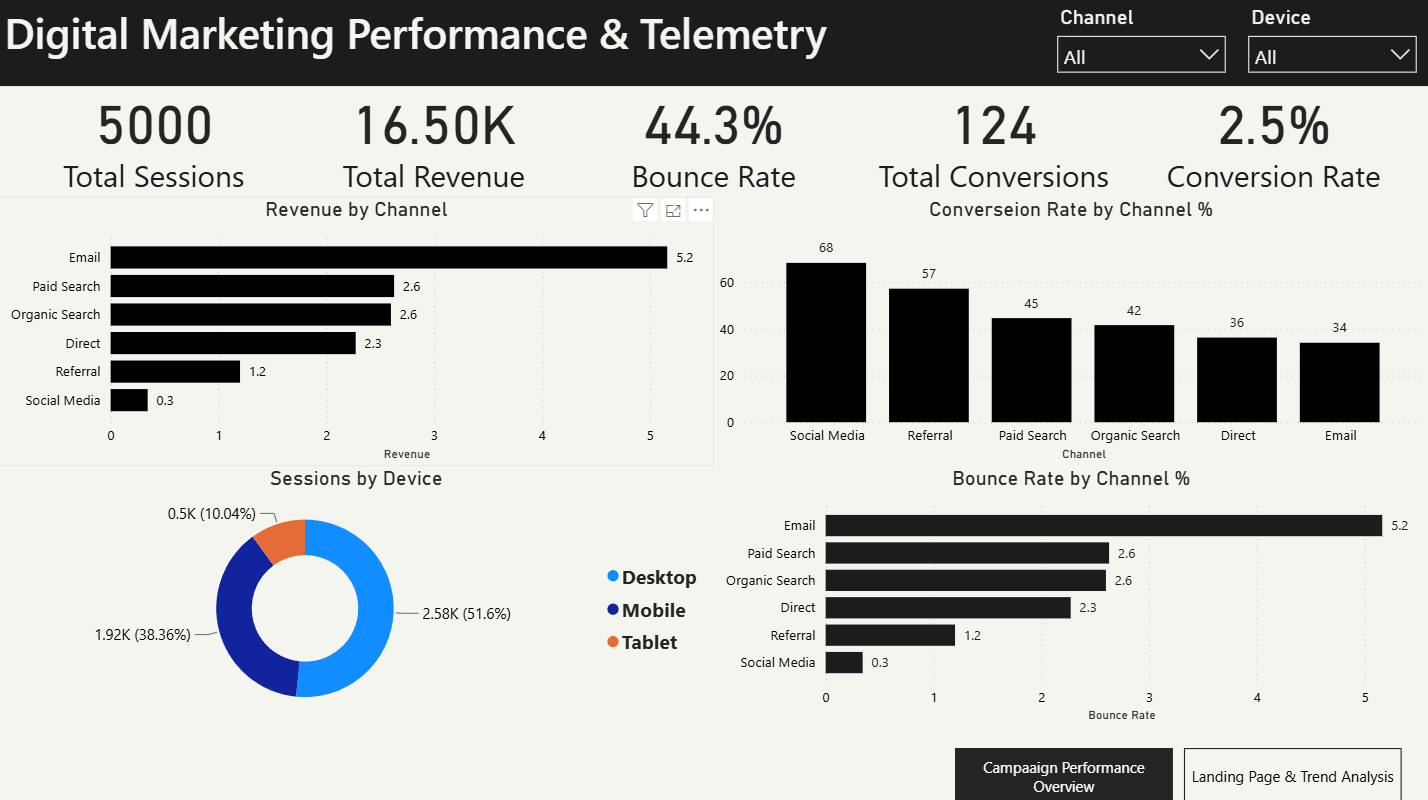

The dashboard page shown, as its layout file describes it:
{"tool":"powerbi","page":{"name":"Campaaign Performance Overview","canvas":[1280,720],"ordinal":0},"visuals":[{"type":"textbox","box":[0,0,1280,78.4],"z":0},{"type":"PBI_CV_7B952816_A48F_49B4_9E13_15E3BB2C0337","fields":{"Values":["web_monthly_trend.Total Sessions"]},"box":[0,78,277.4,99.4],"z":0,"group":"g1"},{"type":"group","id":"g1","title":"Group 1","box":[0,78,1280,99.5],"z":1000},{"type":"PBI_CV_7B952816_A48F_49B4_9E13_15E3BB2C0337","fields":{"Values":["web_monthly_trend.Total Revenue"]},"box":[250.6,78,277.4,99.4],"z":1000,"group":"g1"},{"type":"PBI_CV_7B952816_A48F_49B4_9E13_15E3BB2C0337","fields":{"Values":["web_monthly_trend.Overall Bounce Rate"]},"box":[501.3,78,277.4,99.4],"z":2000,"group":"g1"},{"type":"clusteredBarChart","title":"Revenue by Channel","fields":{"Y":["web_sessions.Channel Conversion Rate"],"Category":["web_sessions.channel"]},"box":[0,177.5,640,240.7],"z":2000},{"type":"PBI_CV_7B952816_A48F_49B4_9E13_15E3BB2C0337","fields":{"Values":["web_monthly_trend.Overall Conversion Rate"]},"box":[1002.6,78,277.4,99.4],"z":3000,"group":"g1"},{"type":"clusteredColumnChart","title":"Converseion Rate by Channel %","fields":{"Category":["web_sessions.channel"],"Y":["web_sessions.Channel Bounce Rate"]},"box":[640,177.5,640,240.7],"z":3000},{"type":"PBI_CV_7B952816_A48F_49B4_9E13_15E3BB2C0337","fields":{"Values":["web_monthly_trend.Total Conversions"]},"box":[751.9,78,277.4,99.4],"z":4000,"group":"g1"},{"type":"donutChart","title":"Sessions by Device","fields":{"Category":["web_sessions.device"],"Y":["CountNonNull(web_sessions.session_id)"]},"box":[0,418.2,640,233.9],"z":4000},{"type":"clusteredBarChart","title":"Bounce Rate by Channel %","fields":{"Category":["web_sessions.channel"],"Y":["web_sessions.Channel Conversion Rate"]},"box":[640,418.2,640,233.9],"z":5000},{"type":"slicer","fields":{"Values":["web_sessions.channel"]},"box":[937.8,0,171.1,78.4],"z":6000},{"type":"slicer","fields":{"Values":["web_sessions.device"]},"box":[1108.9,0,171.1,78.4],"z":7000},{"type":"pageNavigator","box":[856.5,670.9,400.7,49.7],"z":7001}]}

Visuals, with their boxes in screenshot pixels (x1, y1, x2, y2), scaled from the page's 1280x720 canvas onto the 1428x800 screenshot:
textbox: (left=0, top=0, right=1427, bottom=87)
PBI_CV_7B952816_A48F_49B4_9E13_15E3BB2C0337 - web_monthly_trend.Total Sessions: (left=0, top=87, right=309, bottom=197)
"Group 1" group: (left=0, top=87, right=1427, bottom=197)
PBI_CV_7B952816_A48F_49B4_9E13_15E3BB2C0337 - web_monthly_trend.Total Revenue: (left=280, top=87, right=589, bottom=197)
PBI_CV_7B952816_A48F_49B4_9E13_15E3BB2C0337 - web_monthly_trend.Overall Bounce Rate: (left=559, top=87, right=869, bottom=197)
"Revenue by Channel" clusteredBarChart: (left=0, top=197, right=714, bottom=465)
PBI_CV_7B952816_A48F_49B4_9E13_15E3BB2C0337 - web_monthly_trend.Overall Conversion Rate: (left=1119, top=87, right=1427, bottom=197)
"Converseion Rate by Channel %" clusteredColumnChart: (left=714, top=197, right=1427, bottom=465)
PBI_CV_7B952816_A48F_49B4_9E13_15E3BB2C0337 - web_monthly_trend.Total Conversions: (left=839, top=87, right=1148, bottom=197)
"Sessions by Device" donutChart: (left=0, top=465, right=714, bottom=725)
"Bounce Rate by Channel %" clusteredBarChart: (left=714, top=465, right=1427, bottom=725)
slicer - web_sessions.channel: (left=1046, top=0, right=1237, bottom=87)
slicer - web_sessions.device: (left=1237, top=0, right=1427, bottom=87)
pageNavigator: (left=956, top=745, right=1403, bottom=799)
